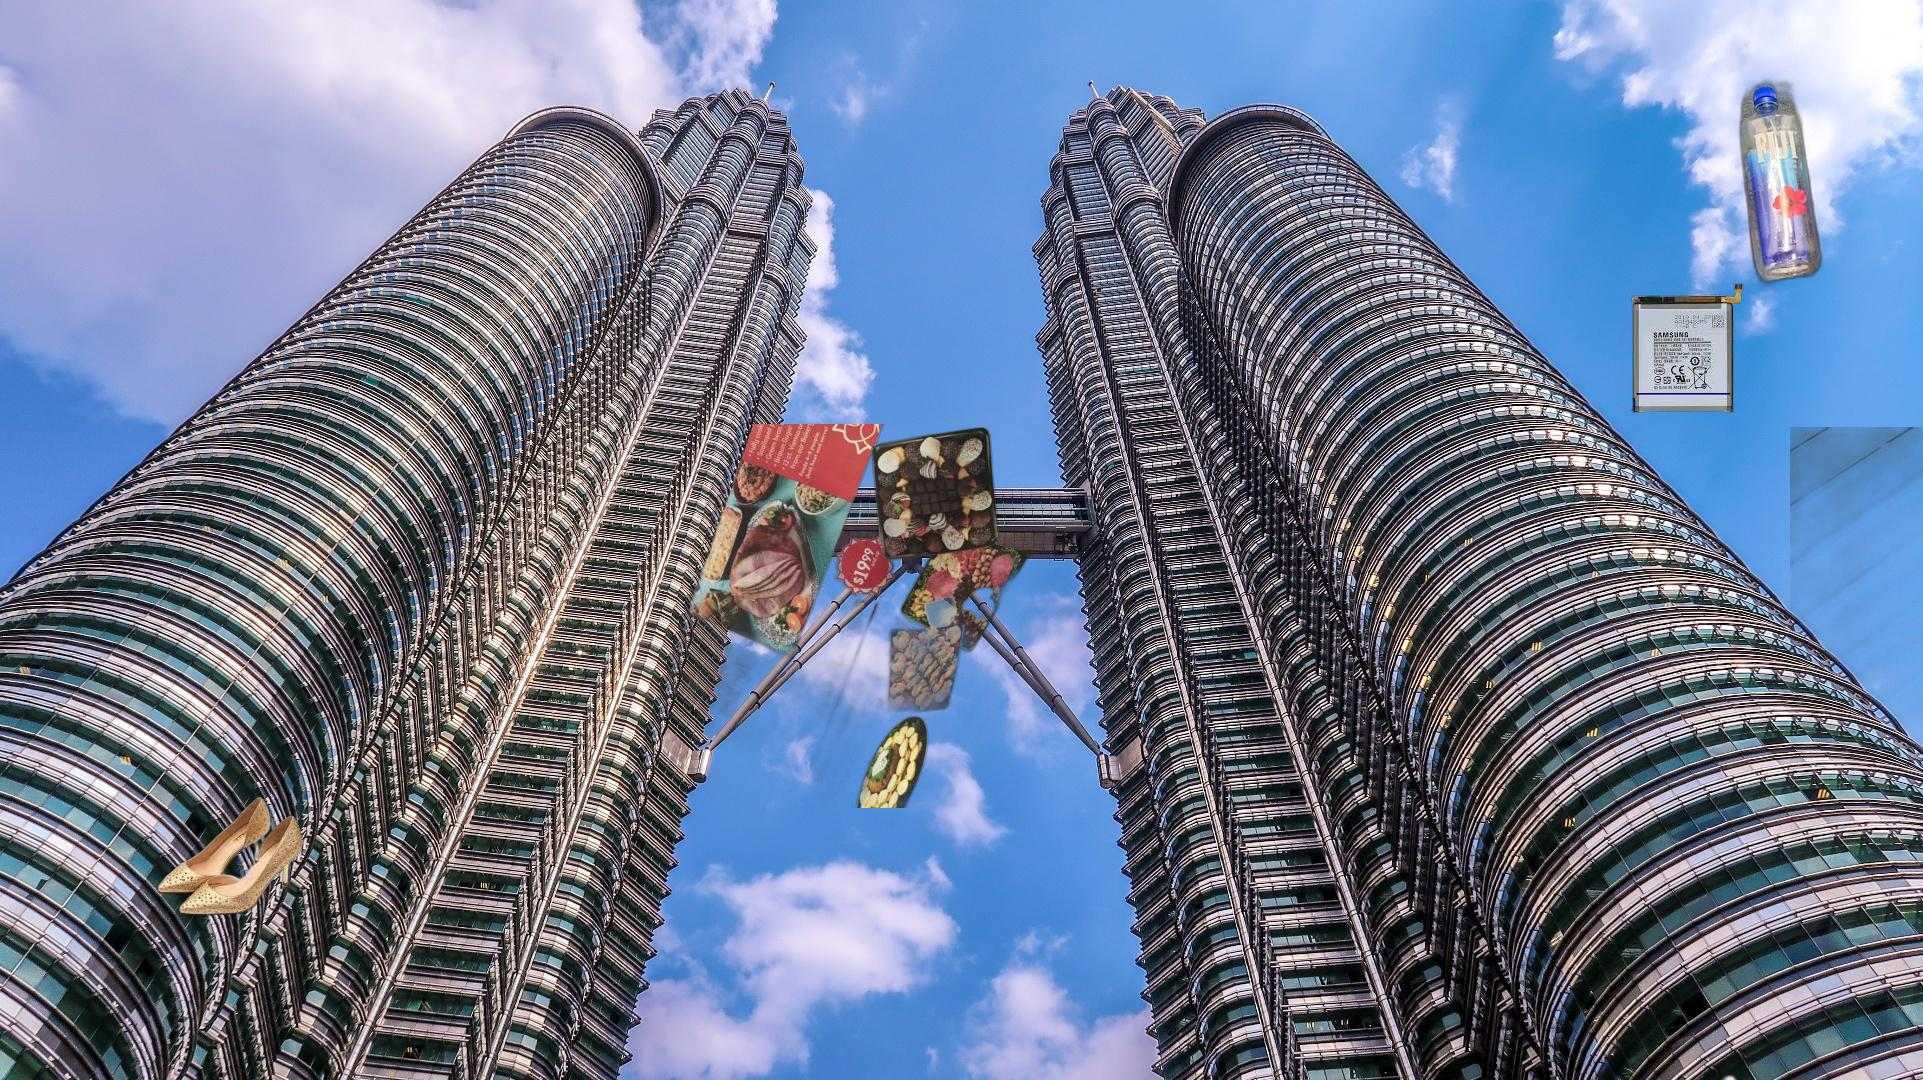battery: (1627, 280, 1746, 415)
clothes: (1920, 1035, 1923, 1080)
paper: (631, 424, 1035, 808)
penholder: (1607, 1065, 1923, 1080)
plastic-bottles: (1790, 426, 1923, 1080), (1735, 77, 1866, 603)
shoes: (155, 793, 306, 918)
